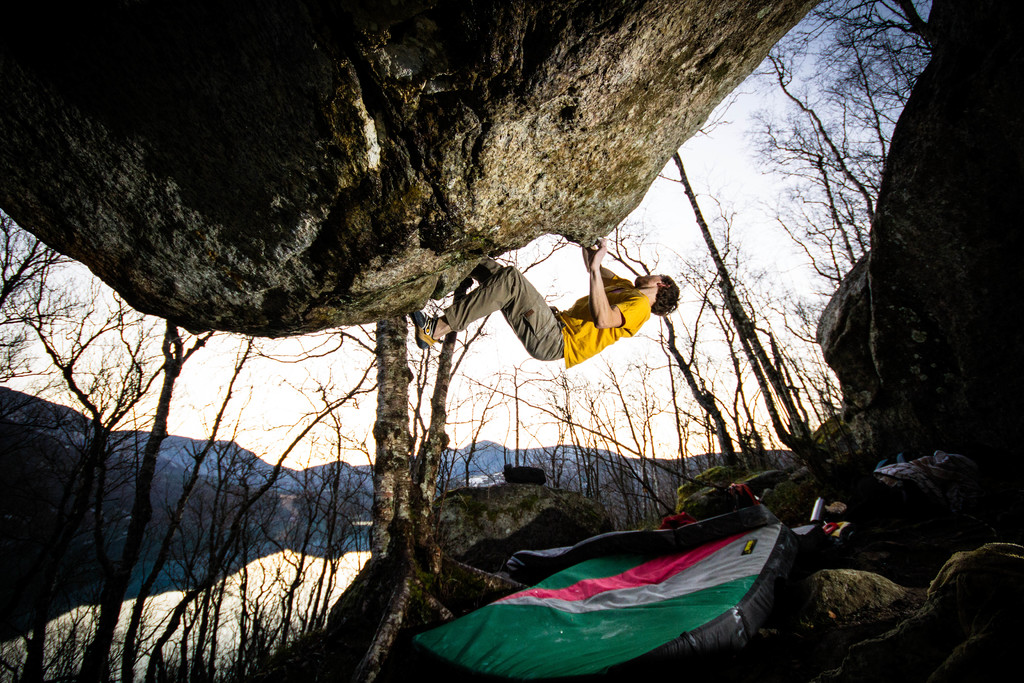Tree: (7, 36, 949, 652)
